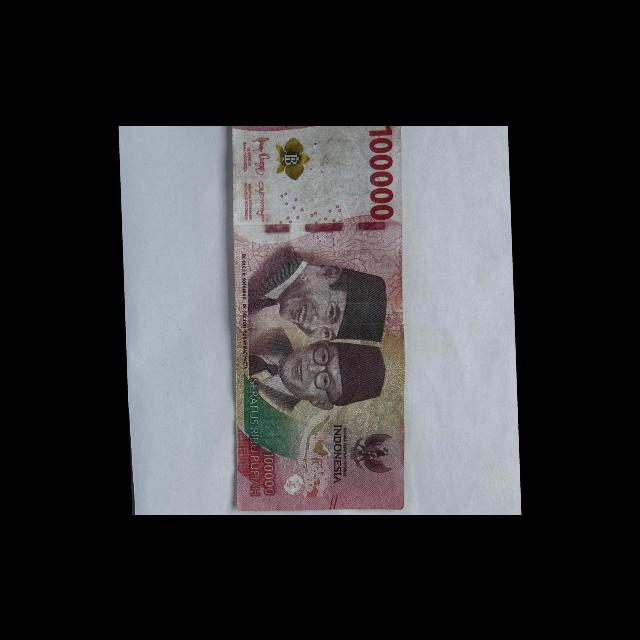Palsu-100k: (230, 126, 408, 515)
Tinta-Palsu-100k: (276, 135, 311, 179)
